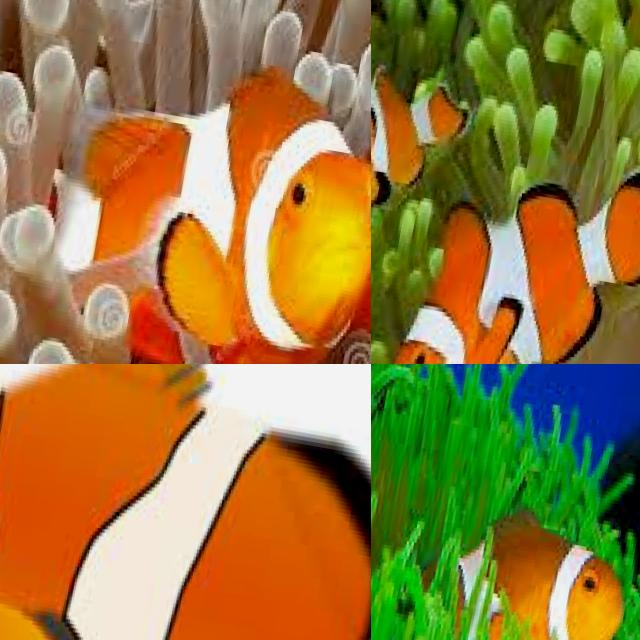Amphiprion-percula: (0, 0, 371, 364), (0, 364, 371, 640), (371, 120, 640, 364), (409, 438, 640, 640), (371, 15, 498, 224)
